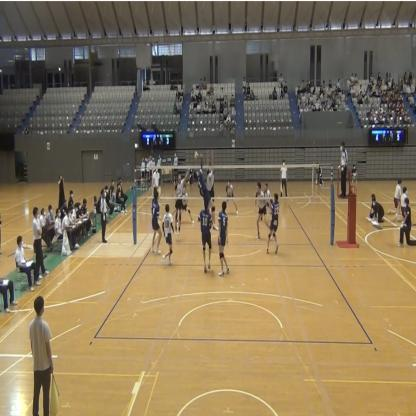spike: (190, 150, 218, 236)
